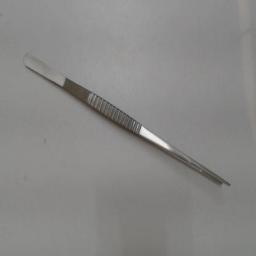DeBakey Dissector: (9, 42, 239, 202)
